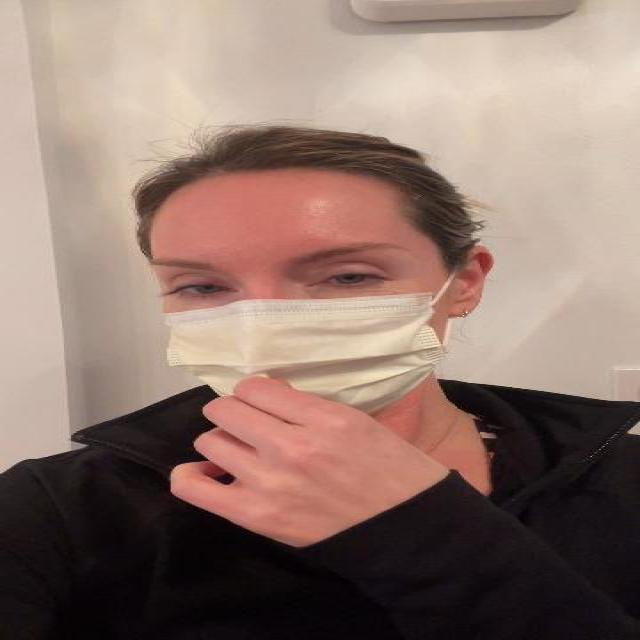bare_hand: (128, 390, 462, 565)
